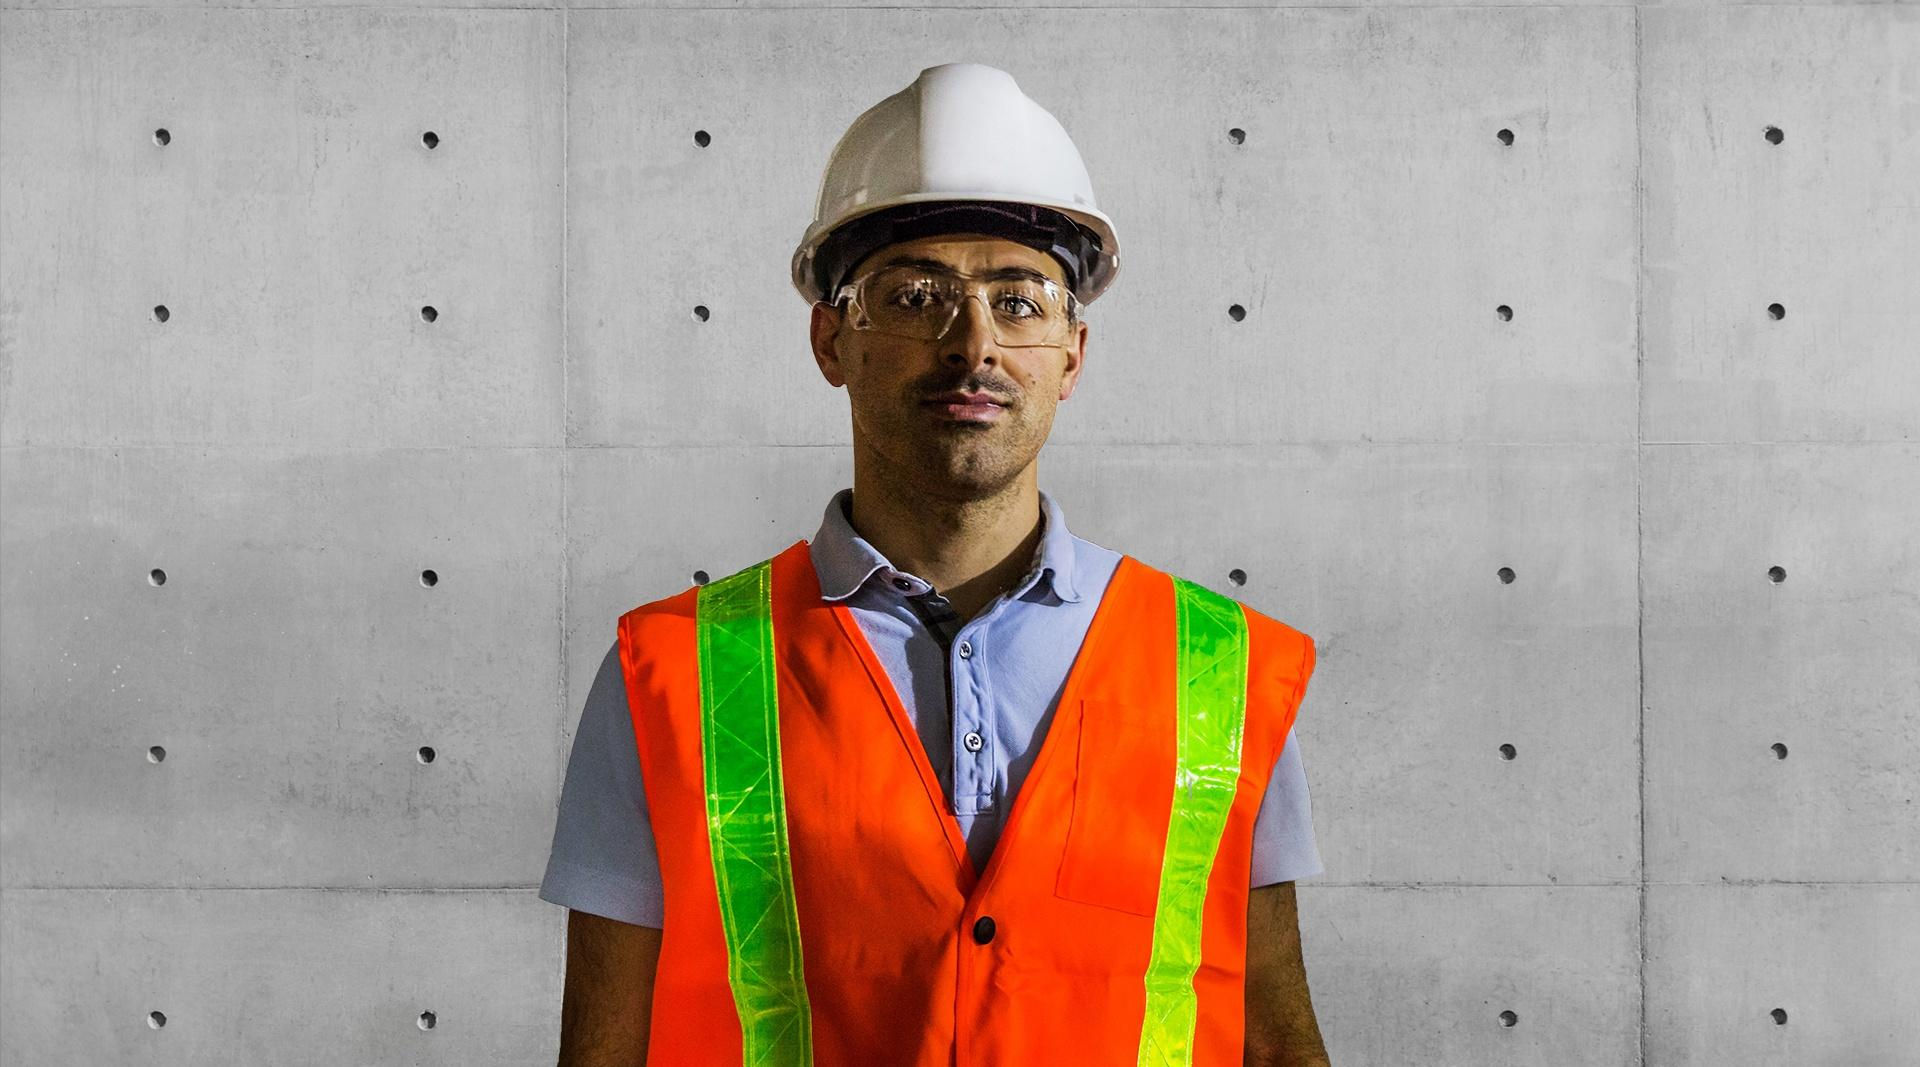helmet: (798, 62, 1129, 301)
